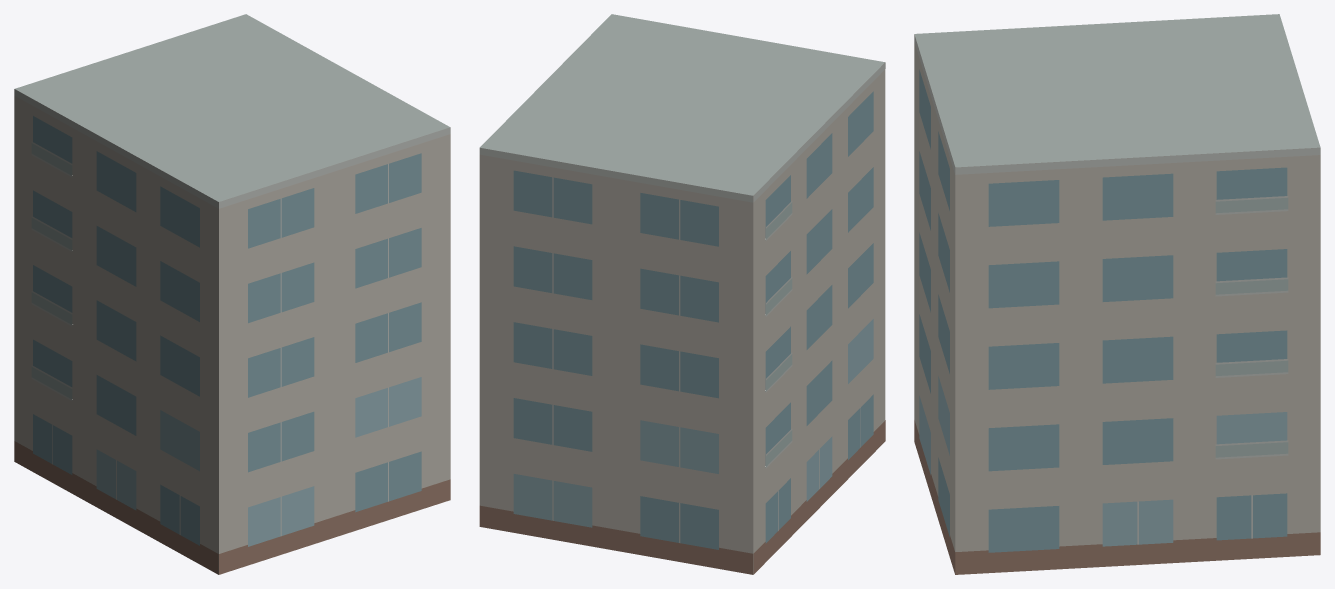
The model's file is survey-upis-32523921.glb.
3 views of the same model, side by side, from view 1: azimuth 30°, elevation 25°; view 2: azimuth 150°, elevation 25°; view 3: azimuth 270°, elevation 25° (orthographic). The views are drawn at different scales.
Visible parts, largest first — view 1: survey-upis-32523921.tmp; view 2: survey-upis-32523921.tmp; view 3: survey-upis-32523921.tmp.
Boxes of the visible parts, bbox=[...] form: survey-upis-32523921.tmp: bbox=[14, 14, 450, 574]; survey-upis-32523921.tmp: bbox=[479, 14, 885, 574]; survey-upis-32523921.tmp: bbox=[914, 14, 1320, 574].
Size of the model in its own units: 10.83 by 13.4 by 12.12.
